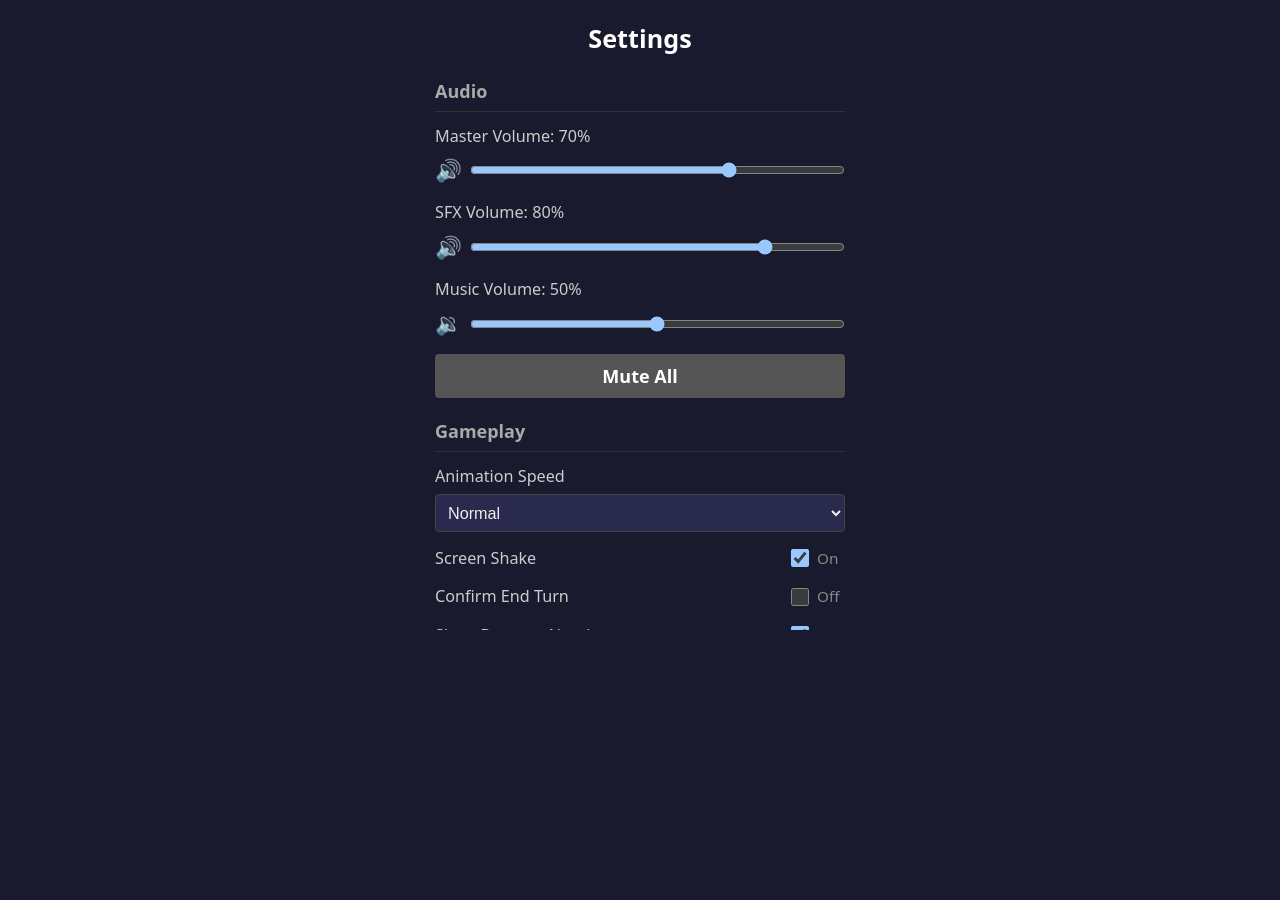
Scenario: Settings Component › Volume Controls › updates master volume display when slider changes
Set the slider named "Master Volume" to "0.5": [658, 170] box [470, 162, 845, 178]
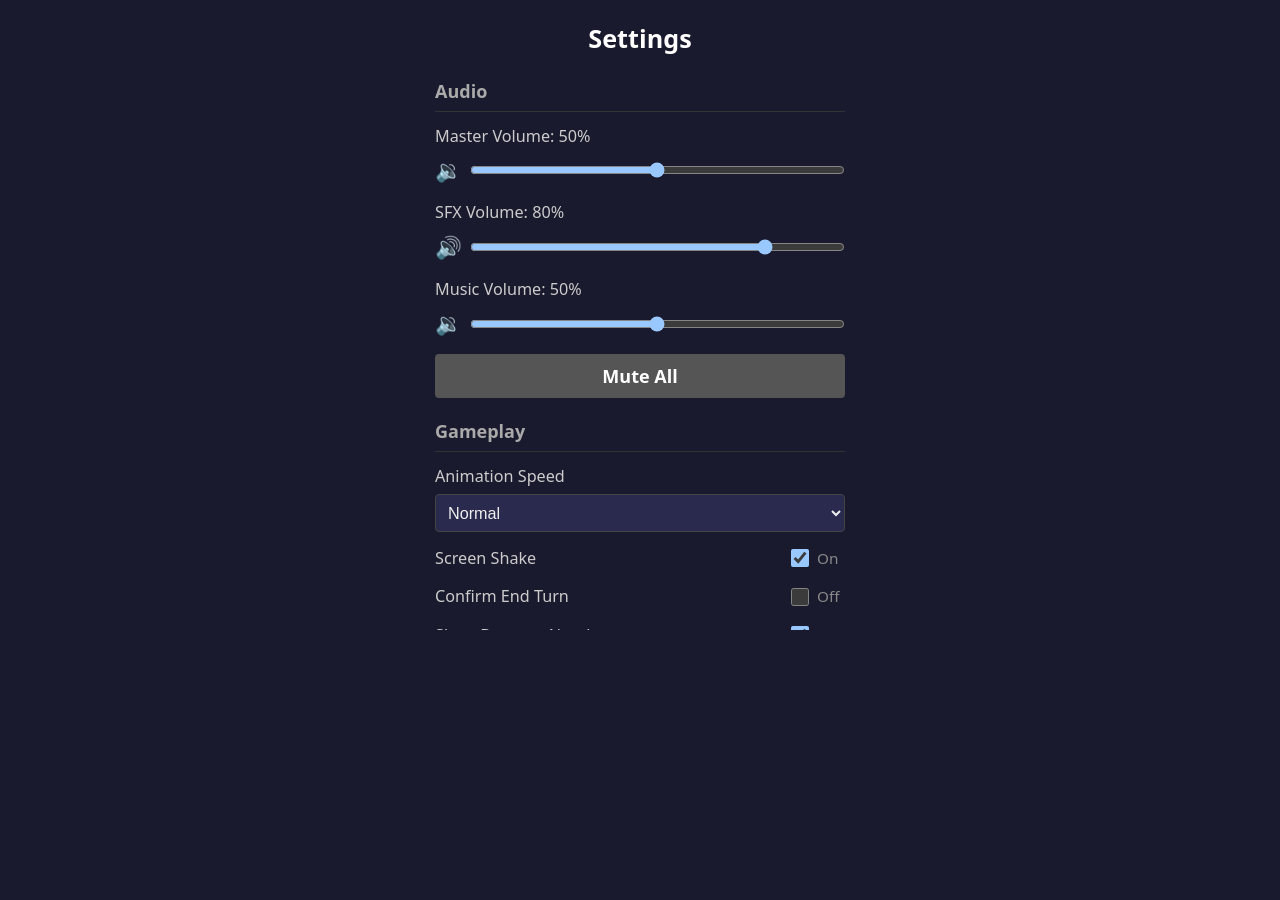
Expected: the text "Master Volume: 50%" is shown, [435, 125, 590, 147]
